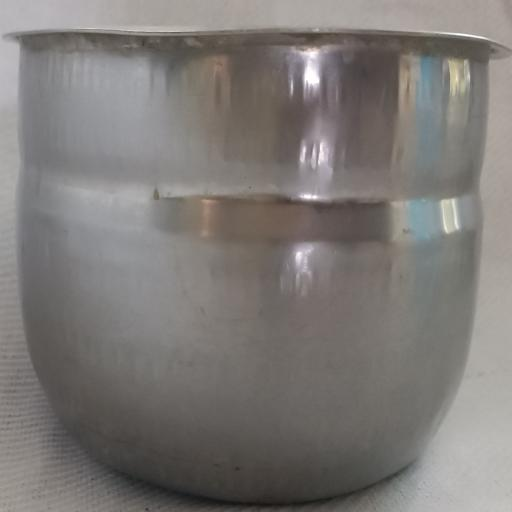vessel: (15, 30, 507, 502)
